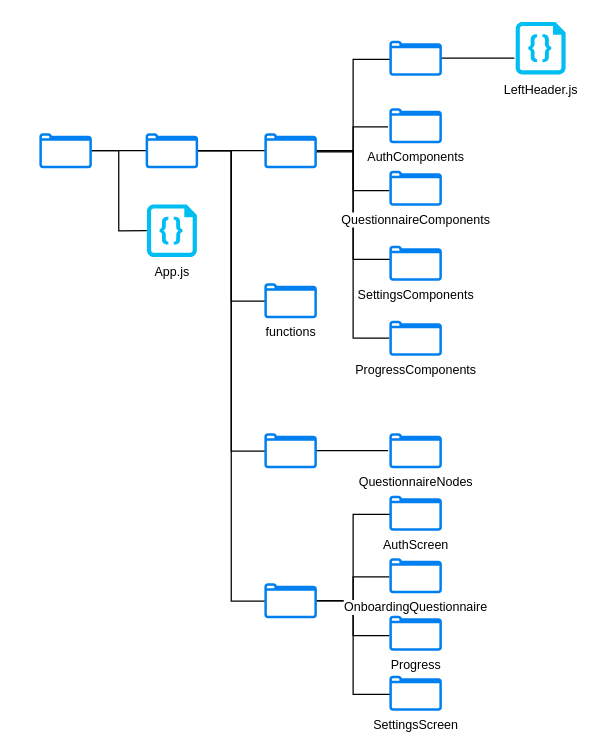
This 599x754 diagram has some shape labels left out. Here are the shapes that lost their labels. From the top down, the centre of each, then its label:
the point at 415,57: AppHeader
the point at 65,150: CocoBot-Mobile
the point at 171,150: src
the point at 290,150: components
the point at 290,450: nodes
the point at 290,600: screens
